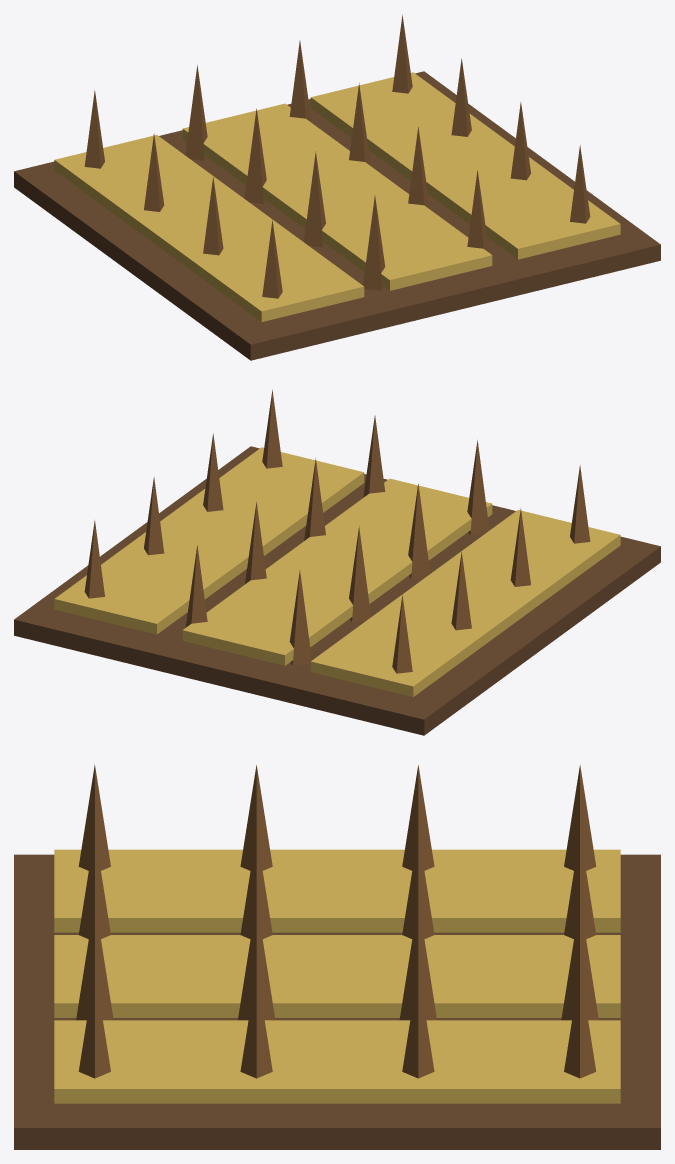
Rendered from trap.glb.
3 views of the same model, one above another, from view 1: azimuth 30°, elevation 25°; view 2: azimuth 150°, elevation 25°; view 3: azimuth 270°, elevation 25° (orthographic). The views are drawn at different scales.
Parts seen in each view (by area): view 1: trap; view 2: trap; view 3: trap.
Part boxes in pixels (x1=…): trap: x1=14, y1=14, x2=660, y2=360; trap: x1=14, y1=389, x2=660, y2=735; trap: x1=14, y1=764, x2=660, y2=1149.
Bounding box in the file's own units: 1.6 × 0.4 × 1.6.
